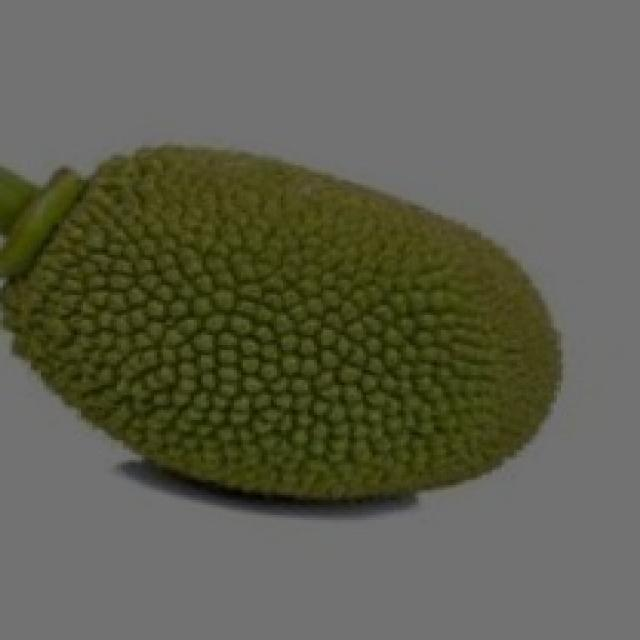Fruit: (0, 124, 458, 527), (234, 127, 588, 535)
